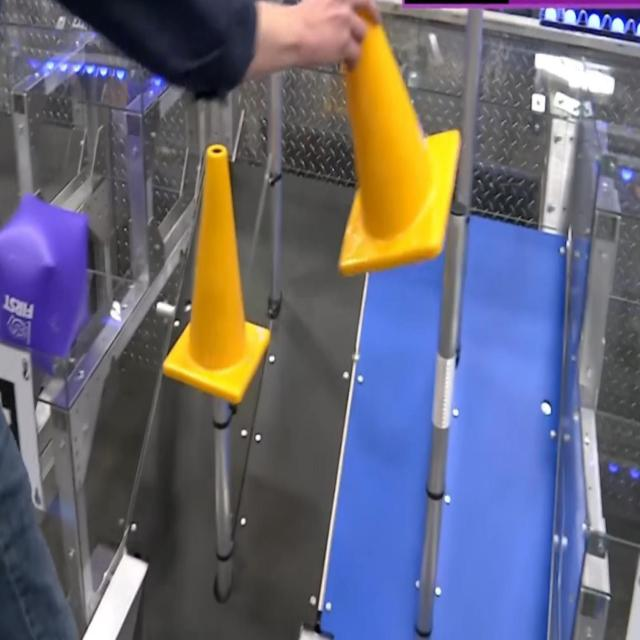frc_cone: (332, 0, 462, 274), (161, 144, 270, 402)
frc_cube: (0, 192, 95, 372)
